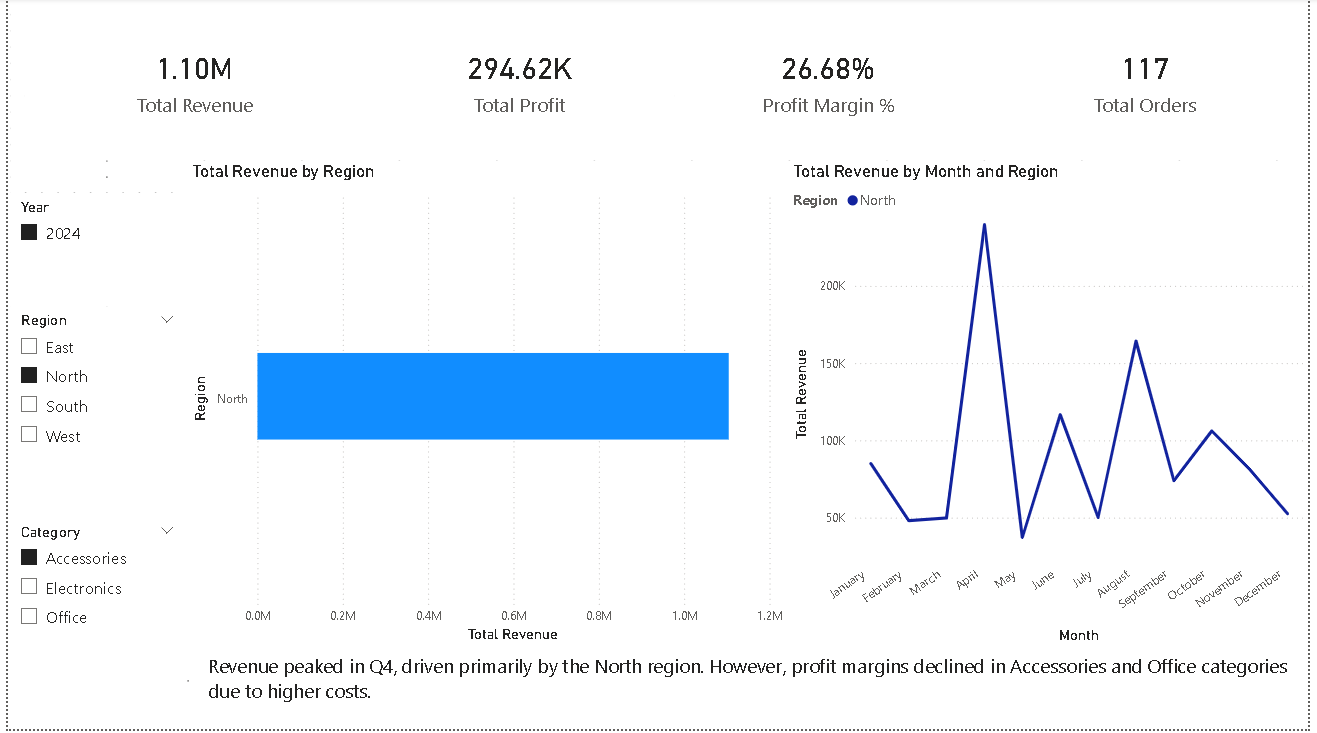

This screenshot's page, from the dashboard's own definition file:
{"tool":"powerbi","page":{"name":"Executive Overview","canvas":[1280,720],"ordinal":0},"visuals":[{"type":"card","fields":{"Values":["_Measures.Total Revenue"]},"box":[16,0,336,160],"z":0},{"type":"card","fields":{"Values":["_Measures.Total Profit"]},"box":[352,0,304,160],"z":1000},{"type":"card","fields":{"Values":["_Measures.Profit Margin %"]},"box":[656,0,304,160],"z":2000},{"type":"card","fields":{"Values":["_Measures.Total Orders"]},"box":[960,0,320,160],"z":3000},{"type":"lineChart","fields":{"Category":["Dim_Date.Month"],"Y":["_Measures.Total Revenue"],"Series":["Dim_Region.Region"]},"box":[768,160,512,480],"z":4000},{"type":"clusteredBarChart","fields":{"Category":["Dim_Region.Region"],"Y":["_Measures.Total Revenue"]},"box":[176,160,592,480],"z":5000},{"type":"slicer","fields":{"Values":["Fact_Sales.Year"]},"box":[0,192,176,112],"z":6000},{"type":"slicer","fields":{"Values":["Dim_Region.Region"]},"box":[0,304,176,208],"z":7000},{"type":"slicer","fields":{"Values":["Fact_Sales.Category"]},"box":[0,512,176,208],"z":8000},{"type":"textbox","box":[192,640,1088,80],"z":9000}]}

Visuals, with their boxes in screenshot pixels (x1, y1, x2, y2), scaled from the page's 1280x720 canvas onto the 1317x733 screenshot:
card - _Measures.Total Revenue: (16,0,362,163)
card - _Measures.Total Profit: (362,0,675,163)
card - _Measures.Profit Margin %: (675,0,988,163)
card - _Measures.Total Orders: (988,0,1316,163)
lineChart - Dim_Date.Month x _Measures.Total Revenue: (790,163,1316,652)
clusteredBarChart - Dim_Region.Region x _Measures.Total Revenue: (181,163,790,652)
slicer - Fact_Sales.Year: (0,195,181,309)
slicer - Dim_Region.Region: (0,309,181,521)
slicer - Fact_Sales.Category: (0,521,181,732)
textbox: (198,652,1316,732)
